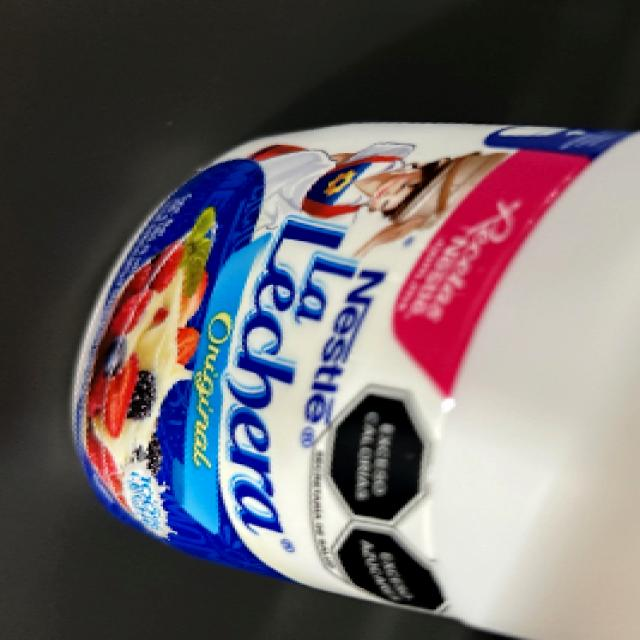nestleLechera: (84, 159, 633, 595)
